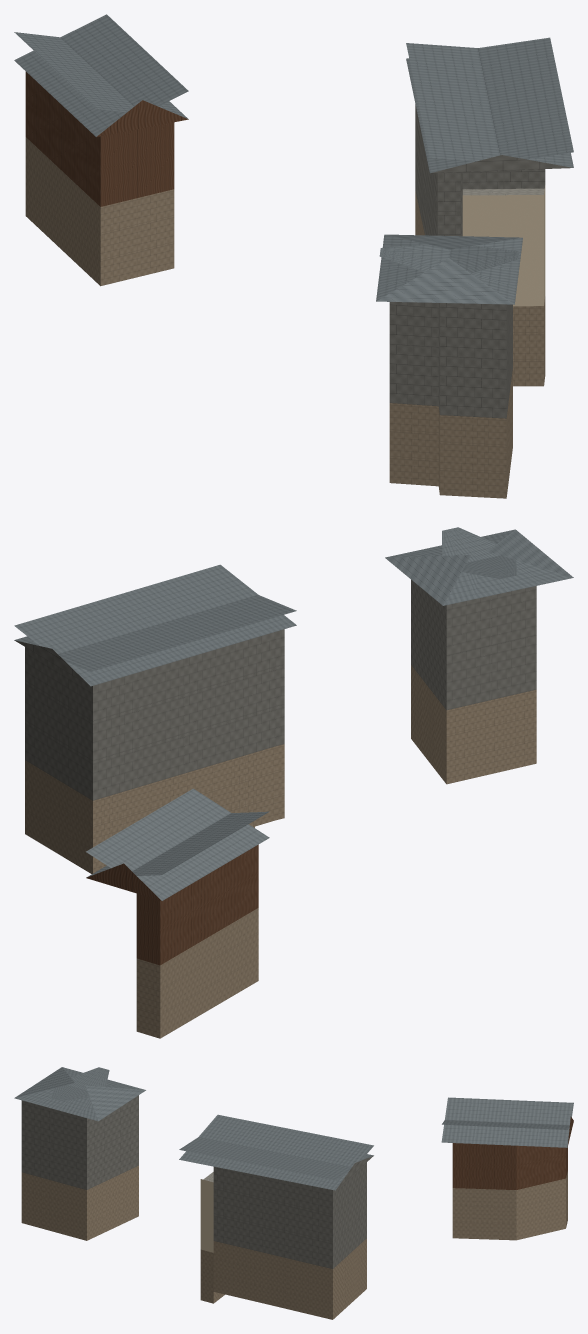
The model's file is bld_c-13_27_475.gltf.
3 views of the same model, one above another, from view 1: azimuth 30°, elevation 25°; view 2: azimuth 150°, elevation 25°; view 3: azimuth 270°, elevation 25° (orthographic). The views are drawn at different scales.
Parts seen in each view (by area): view 1: bld_c-13_27_475; view 2: bld_c-13_27_475; view 3: bld_c-13_27_475.
Part boxes in pixels (left/top/right/bottom): bld_c-13_27_475: left=14, top=14, right=573, bottom=498; bld_c-13_27_475: left=14, top=527, right=573, bottom=1038; bld_c-13_27_475: left=14, top=1067, right=573, bottom=1319.
Bounding box in the file's own units: 25.98 × 15.8 × 50.97.
Materials: 9 (9 with a texture image).
